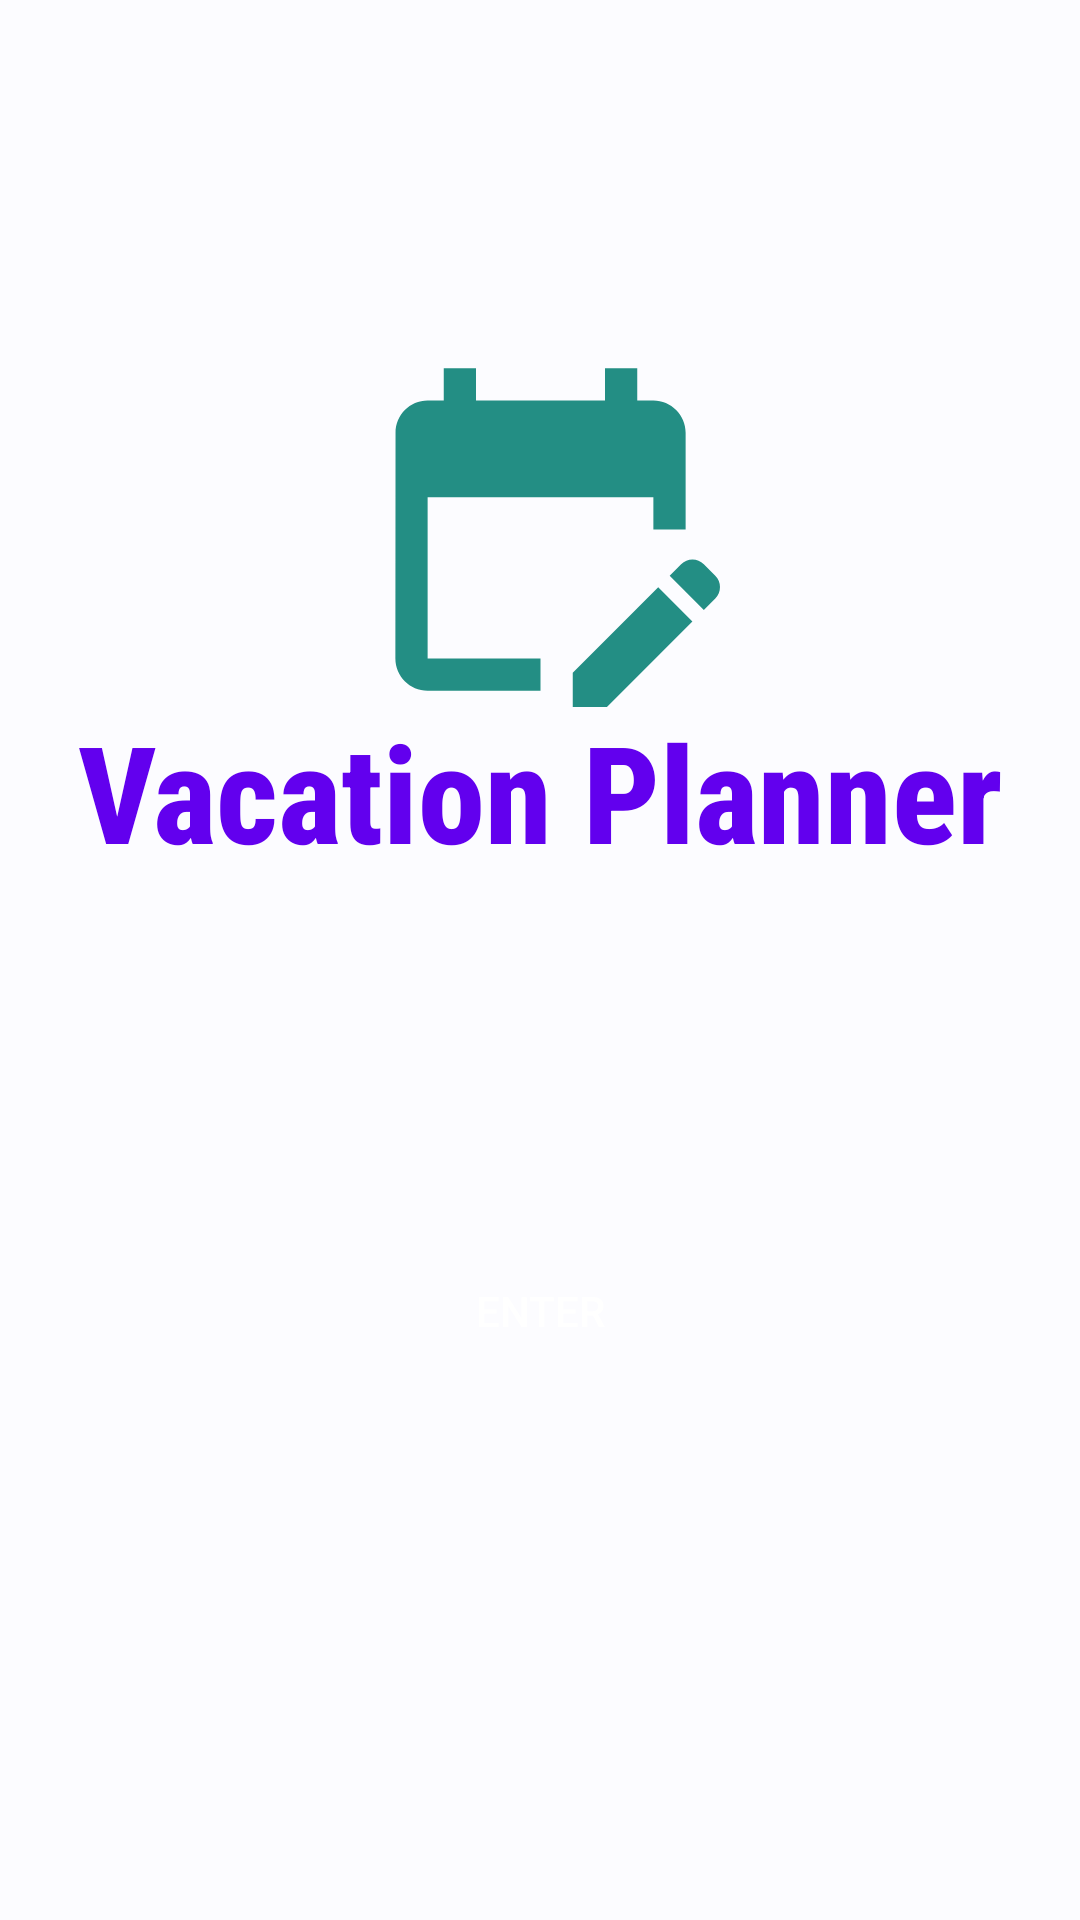

Named icons in this screenshot (1080*1920) and their bounding boxes, (x1, y1, x2, y2):
edit calendar: (395, 368, 720, 707)
